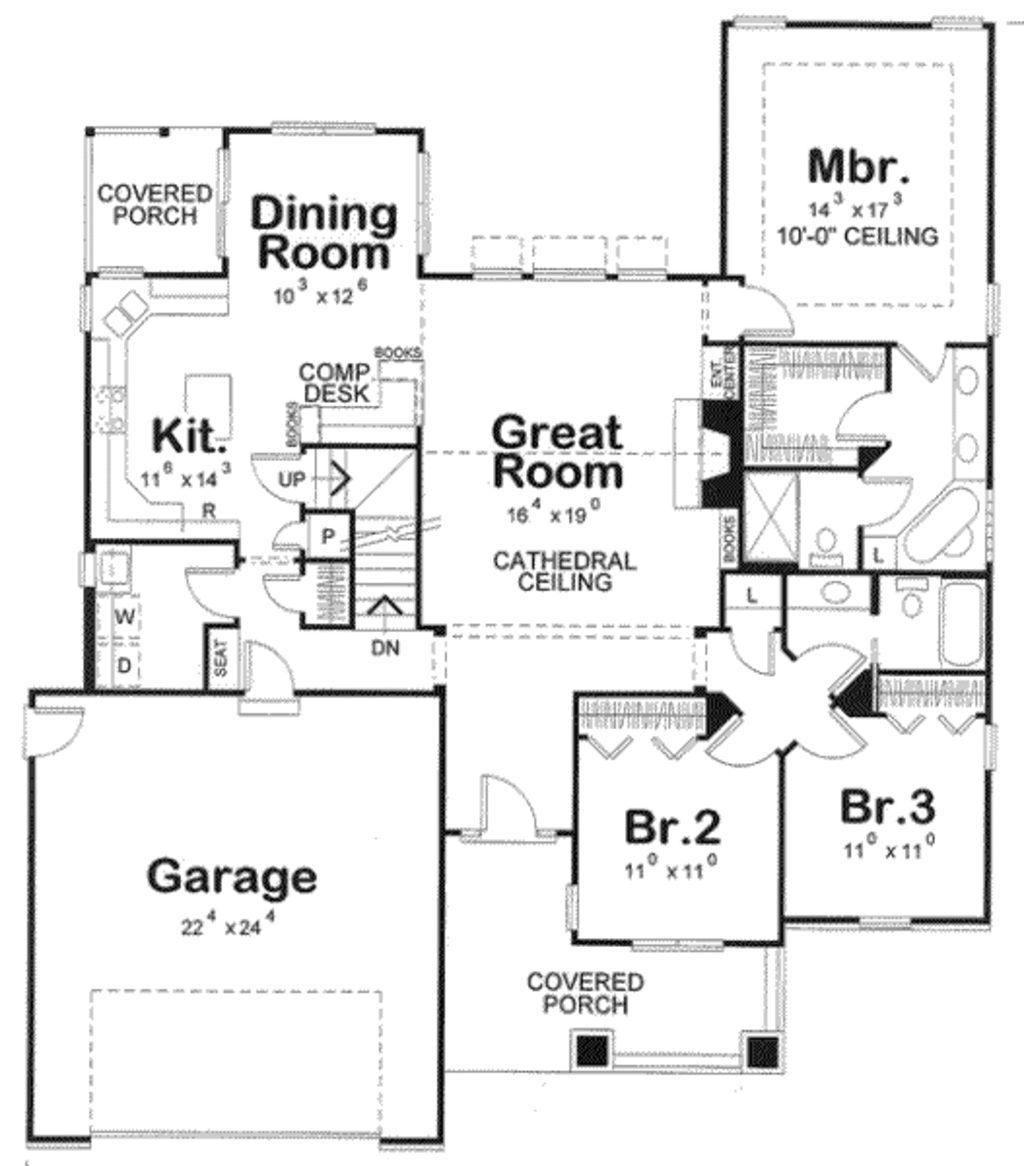door: (466, 769, 560, 845), (791, 632, 873, 708), (232, 635, 307, 718), (22, 701, 102, 776), (704, 704, 779, 784), (724, 271, 795, 347), (793, 703, 865, 771), (252, 443, 311, 514), (179, 560, 247, 621), (859, 465, 914, 532), (831, 382, 890, 439), (891, 338, 947, 392), (267, 566, 313, 629), (728, 626, 778, 674), (264, 514, 308, 556)
large_sink: (807, 518, 852, 566), (891, 578, 931, 625)
small_sink: (955, 343, 995, 480), (795, 574, 869, 609)
stairs: (316, 451, 426, 651)
tub: (936, 580, 981, 671)
twin_sink: (96, 288, 165, 355)
window: (408, 142, 440, 265), (261, 118, 377, 141), (722, 7, 791, 37)
